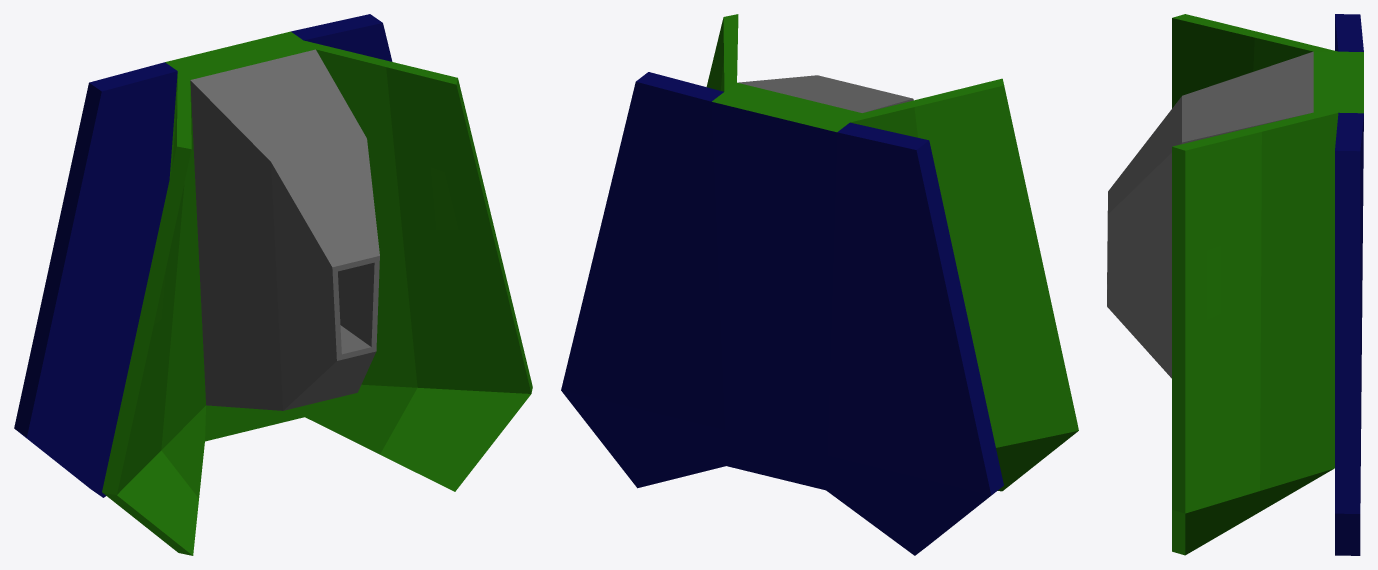
The model's file is ARC_Thruster_Part_Wipeout.fbx.
The picture shows the model from 3 angles, left to right: view 1: azimuth 30°, elevation 25°; view 2: azimuth 150°, elevation 25°; view 3: azimuth 270°, elevation 25°; orthographic projection.
Visible parts, largest first — view 1: ARC_Thruster_Ship; view 2: ARC_Thruster_Ship; view 3: ARC_Thruster_Ship.
Part boxes in pixels (box(x1,y1,x2,y2)): ARC_Thruster_Ship: box(14, 14, 532, 555); ARC_Thruster_Ship: box(561, 14, 1078, 555); ARC_Thruster_Ship: box(1107, 14, 1363, 555).
Size of the model in its own units: 298 by 155 by 270.
